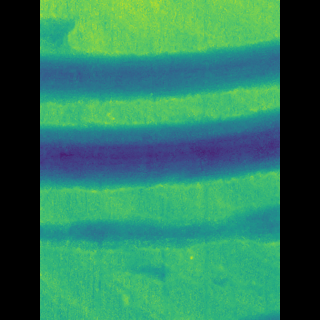Loch: (69, 104, 251, 190), (69, 35, 250, 103), (69, 201, 250, 260)
